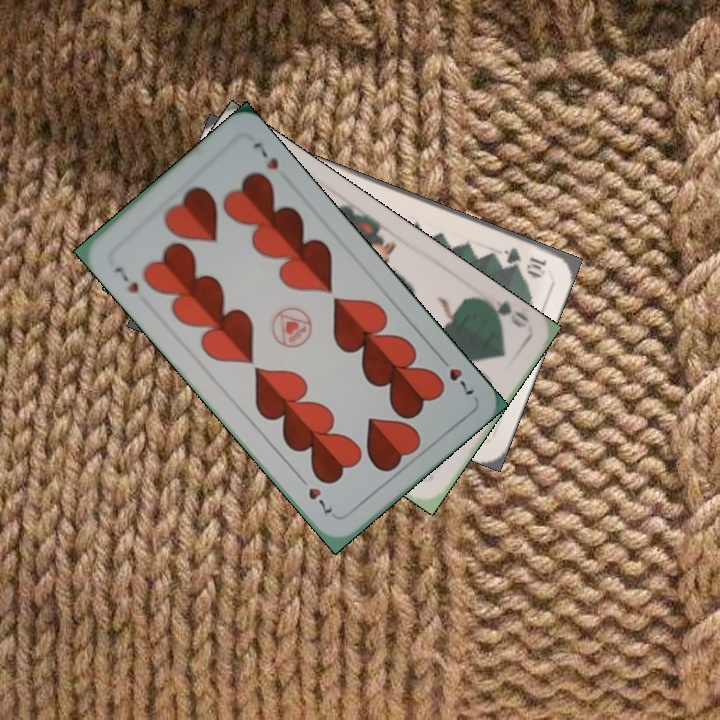G10: (500, 243, 550, 279)
GO: (477, 294, 532, 331)
H7: (434, 351, 478, 398), (110, 263, 142, 296)
